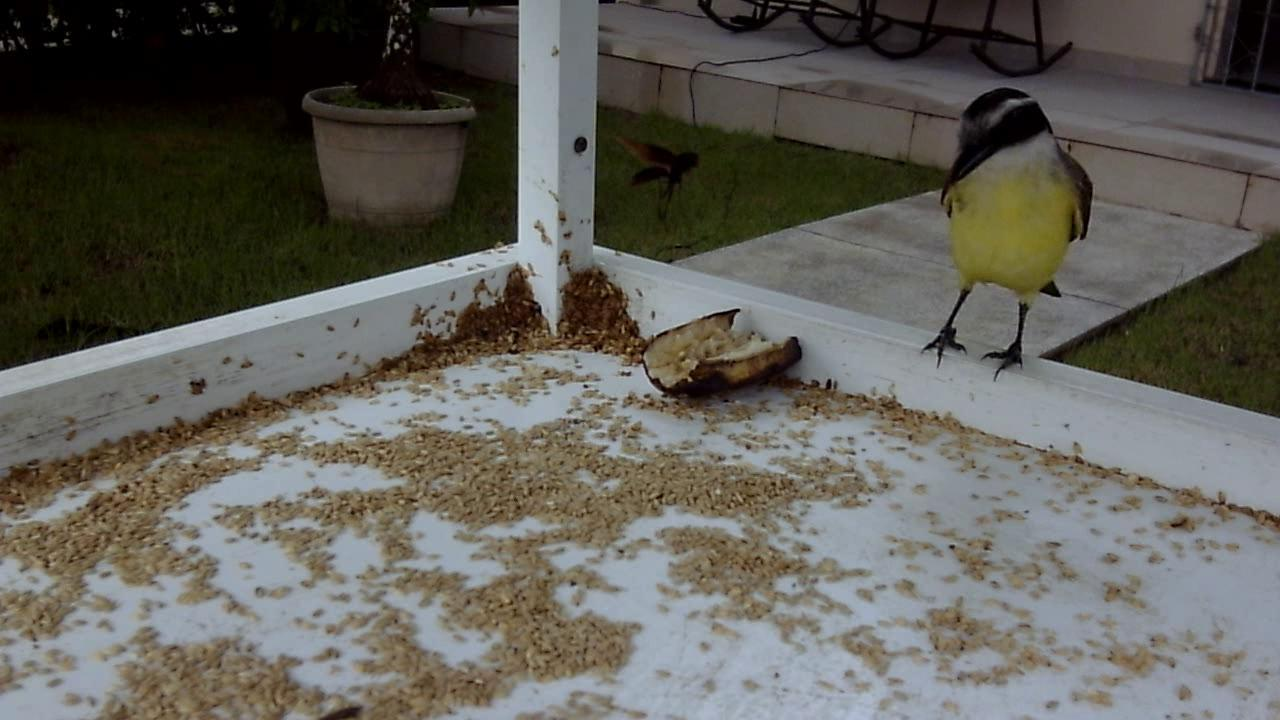bem_te_vi: (911, 78, 1100, 392)
